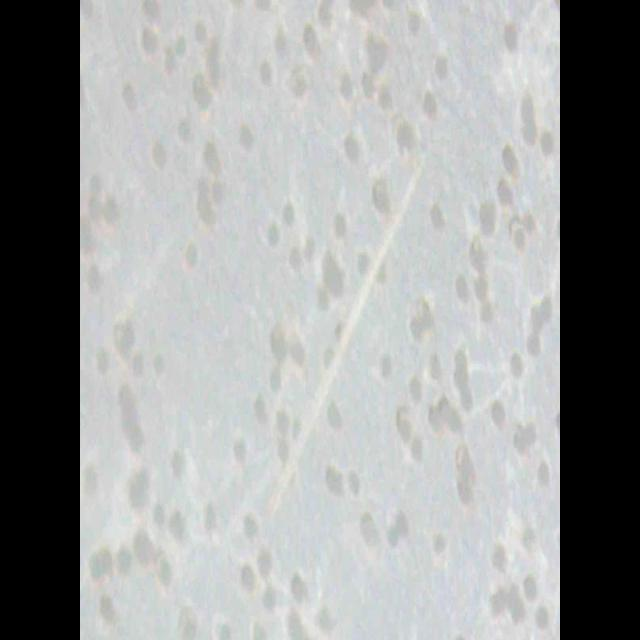Fibre: (259, 156, 429, 542)
